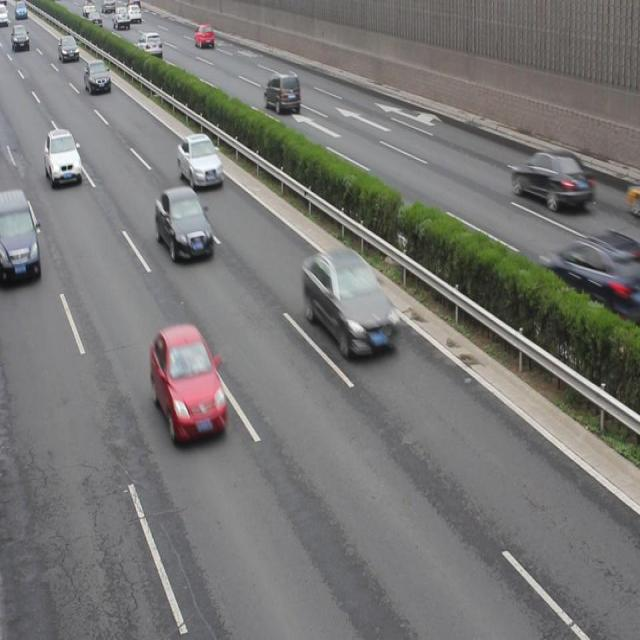car: (301, 252, 399, 358), (151, 327, 227, 442), (540, 229, 640, 315), (512, 150, 594, 208), (155, 186, 214, 262), (1, 191, 40, 283), (177, 134, 224, 186), (45, 127, 81, 182), (264, 69, 299, 111), (85, 58, 108, 93), (138, 32, 162, 59), (58, 35, 81, 61), (195, 22, 212, 48)
